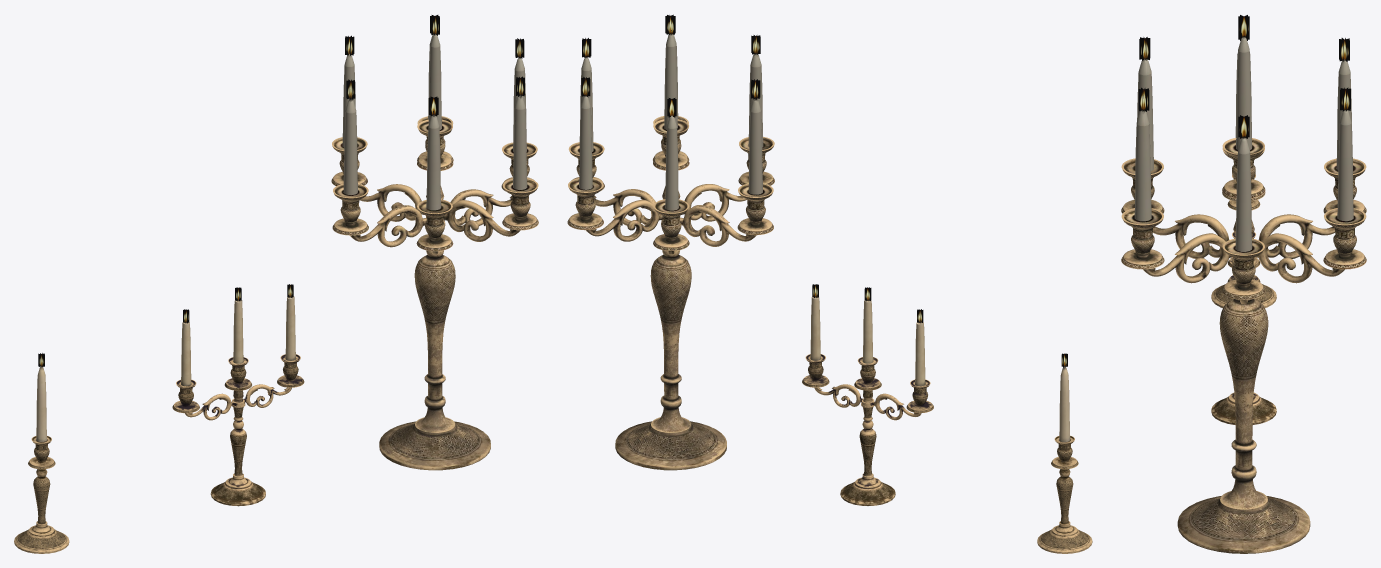
The model's file is brass_candleholders.glb.
3 renders of one model, left to right at view 1: azimuth 30°, elevation 25°; view 2: azimuth 150°, elevation 25°; view 3: azimuth 270°, elevation 25°, orthographic. The views are drawn at different scales.
Visible parts, largest first — view 1: brass_candleholder_03, brass_candleholder_02, brass_candleholder_01; view 2: brass_candleholder_03, brass_candleholder_02, brass_candleholder_01; view 3: brass_candleholder_03, brass_candleholder_02, brass_candleholder_01.
Part boxes in pixels (<box>): brass_candleholder_03: <box>331,15,538,470</box>; brass_candleholder_02: <box>172,284,304,506</box>; brass_candleholder_01: <box>14,353,69,553</box>; brass_candleholder_03: <box>567,14,774,470</box>; brass_candleholder_02: <box>802,284,933,505</box>; brass_candleholder_01: <box>1037,353,1092,553</box>; brass_candleholder_03: <box>1121,15,1366,553</box>; brass_candleholder_02: <box>1211,232,1276,424</box>; brass_candleholder_01: <box>1211,174,1276,307</box>.
Bounding box in the file's own units: 1.05 × 0.8353 × 0.3647.
5 materials, 5 textured.
